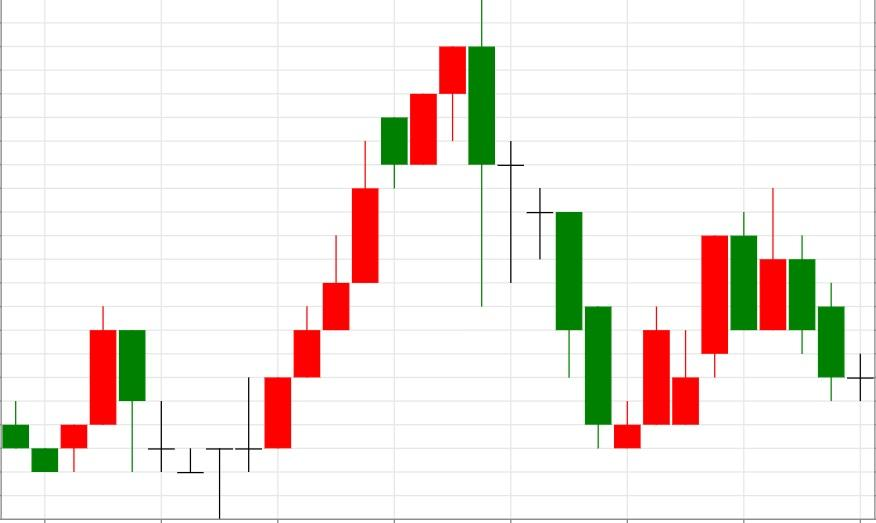bearish_engulfing_fall: (205, 0, 496, 519)
